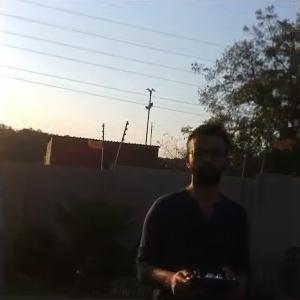follow: (129, 121, 255, 298)
